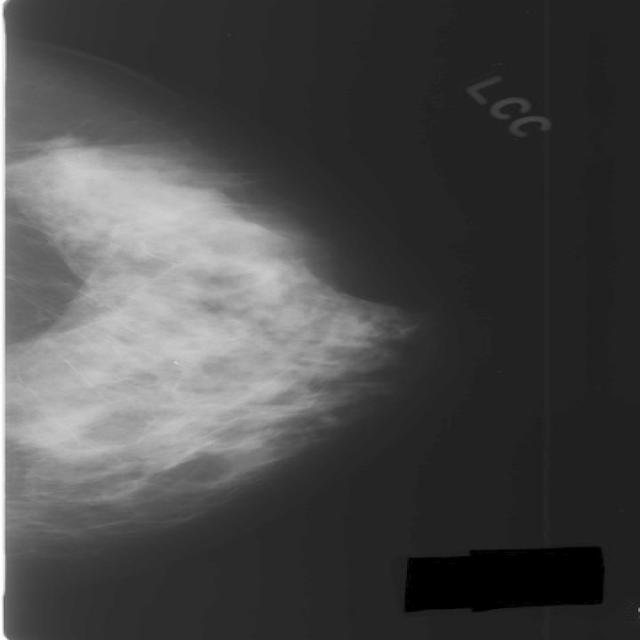tumour: (32, 132, 96, 164)
